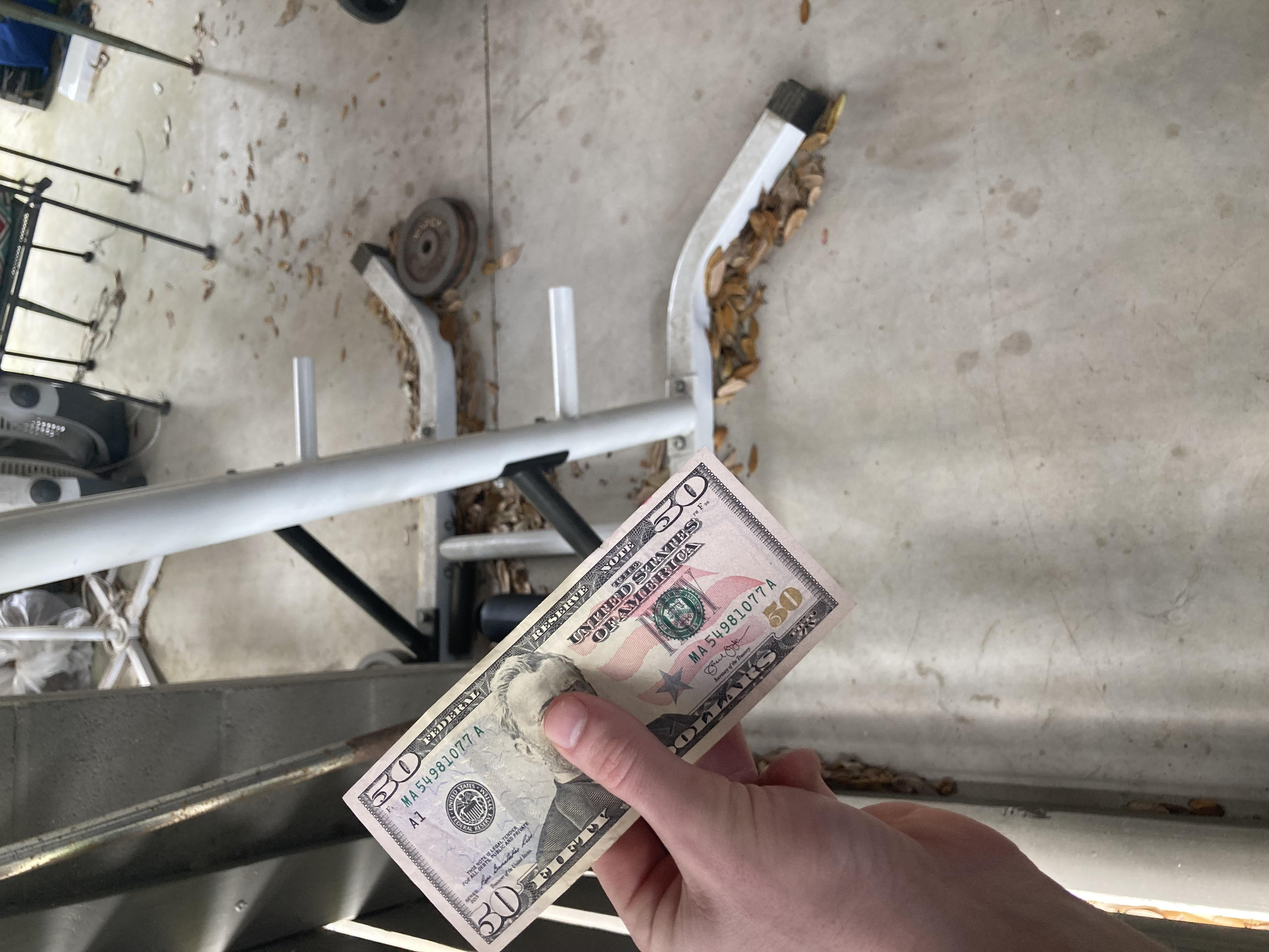fifty-front: (0, 256, 677, 643)
